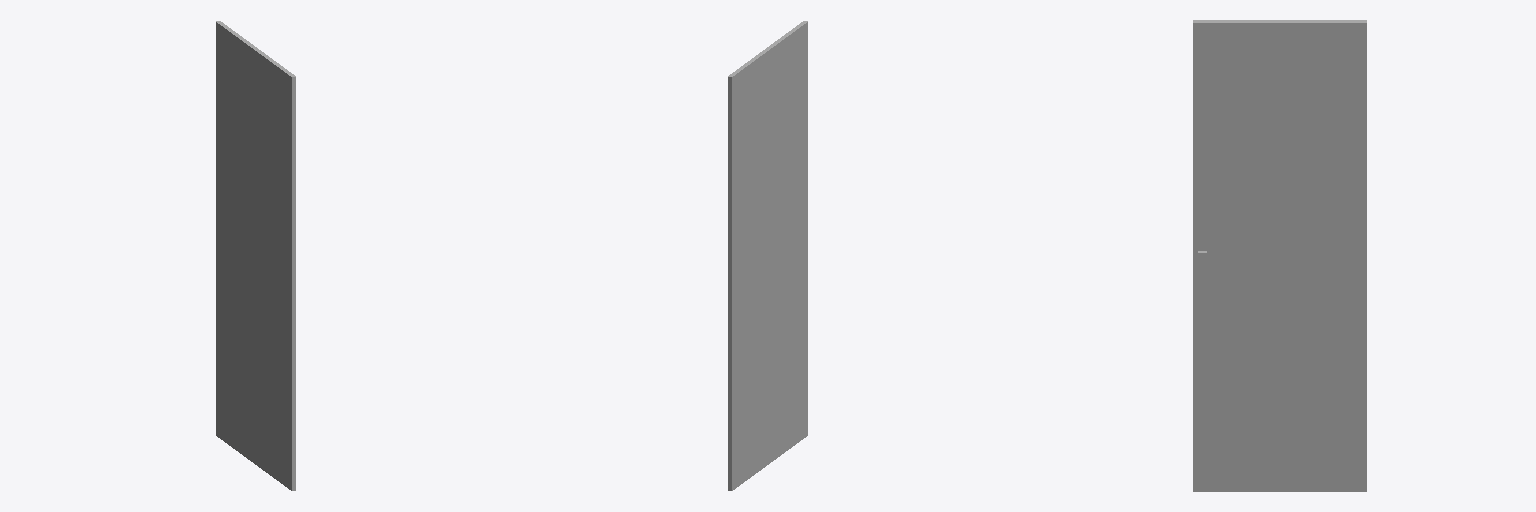
URDF robot description (room602-3t-600-clean-locker_fixed):
<?xml version="1.0"?>
<robot name="room602-3t-600-clean-locker_fixed"
       xmlns:xi="http://www.w3.org/2001/XInclude">
  <gazebo>
    <static>false</static>
  </gazebo>
  <link name="ROOT_link">
    <visual>
      <origin xyz="0 0 0" rpy="0 -0 0"/>
      <geometry>
        <mesh filename="model://room602-3t-600-clean-locker/meshes/ROOT_link_mesh.dae" scale="1 1 1" />
      </geometry>
    </visual>
    <collision>
      <origin xyz="0 0 0" rpy="0 -0 0"/>
      <geometry>
        <mesh filename="model://room602-3t-600-clean-locker/meshes/ROOT_link_mesh.dae" scale="1 1 1" />
      </geometry>
    </collision>
    <inertial>
      <mass value="0.001" />
      <origin xyz="0 0 0" rpy="0 -0 0"/>
      <inertia ixx="1e-03" ixy="0" ixz="0" iyy="1e-03" iyz="0" izz="1e-03"/>
    </inertial>
  </link>
  <gazebo reference="ROOT_link">
    <mu1>0.9</mu1>
    <mu2>0.9</mu2>
  </gazebo>
  <link name="ROOM602-3T-600-CLEAN-LOCKER-BODYSET2_link">
    <visual>
      <origin xyz="0.191 0.282 0.044" rpy="0 -0 0"/>
      <geometry>
        <mesh filename="model://room602-3t-600-clean-locker/meshes/ROOM602-3T-600-CLEAN-LOCKER-BODYSET2_link_mesh.dae" scale="1 1 1" />
      </geometry>
    </visual>
    <collision>
      <origin xyz="0.191 0.282 0.044" rpy="0 -0 0"/>
      <geometry>
        <mesh filename="model://room602-3t-600-clean-locker/meshes/ROOM602-3T-600-CLEAN-LOCKER-BODYSET2_link_mesh.dae" scale="1 1 1" />
      </geometry>
    </collision>
    <inertial>
      <mass value="0.001" />
      <origin xyz="0 0 0" rpy="0 -0 0"/>
      <inertia ixx="1e-03" ixy="0" ixz="0" iyy="1e-03" iyz="0" izz="1e-03"/>
    </inertial>
  </link>
  <gazebo reference="ROOM602-3T-600-CLEAN-LOCKER-BODYSET2_link">
    <mu1>0.9</mu1>
    <mu2>0.9</mu2>
  </gazebo>
  <joint name="DOOR" type="revolute">
    <parent link="ROOT_link"/>
    <child  link="ROOM602-3T-600-CLEAN-LOCKER-BODYSET2_link"/>
    <origin xyz="0.191 0.282 0.044" rpy="0 -0 0 "/>
    <axis   xyz="0 0 1"/>
    <limit lower="0" upper="1.5708" effort="100" velocity="0.5" />
    <dynamics damping="0.2" friction="0" />
  </joint>
  <transmission type="pr2_mechanism_model/SimpleTransmission" name="DOOR_trans" >
    <actuator name="DOOR_motor" />
    <joint name="DOOR" />
    <mechanicalReduction>1</mechanicalReduction>
  </transmission>
  <gazebo reference="DOOR">
    <cfmDamping>0.4</cfmDamping>
  </gazebo>
  <!-- Used for fixing robot to Gazebo 'base_link' -->
  <link name="world"/>
  <joint name="fixed" type="fixed">
    <parent link="world"/>
    <child link="ROOT_link"/>
  </joint>
</robot>

--- Render facts (derived) ---
The picture shows the robot from 3 angles, left to right: view 1: azimuth 30°, elevation 25°; view 2: azimuth 150°, elevation 25°; view 3: azimuth 270°, elevation 25°; orthographic projection.
Model room602-3t-600-clean-locker_fixed with 3 links and 2 joints (1 revolute, 1 fixed), rooted at world, posed all joints at 0.
Visible links, largest first — view 1: ROOM602-3T-600-CLEAN-LOCKER-BODYSET2_link; view 2: ROOM602-3T-600-CLEAN-LOCKER-BODYSET2_link; view 3: ROOM602-3T-600-CLEAN-LOCKER-BODYSET2_link.
Link boxes in pixels (box(x1,y1,x2,y2)): ROOM602-3T-600-CLEAN-LOCKER-BODYSET2_link: box(216, 21, 295, 490); ROOM602-3T-600-CLEAN-LOCKER-BODYSET2_link: box(728, 21, 807, 490); ROOM602-3T-600-CLEAN-LOCKER-BODYSET2_link: box(1193, 20, 1366, 491).
Size in the robot's own frame: 0.018 by 0.582 by 1.74 metres.
1 mesh visuals loaded from 2 distinct referenced files (1 Collada DAE); not drawn: 1 (reference not matched to a file when rendering).